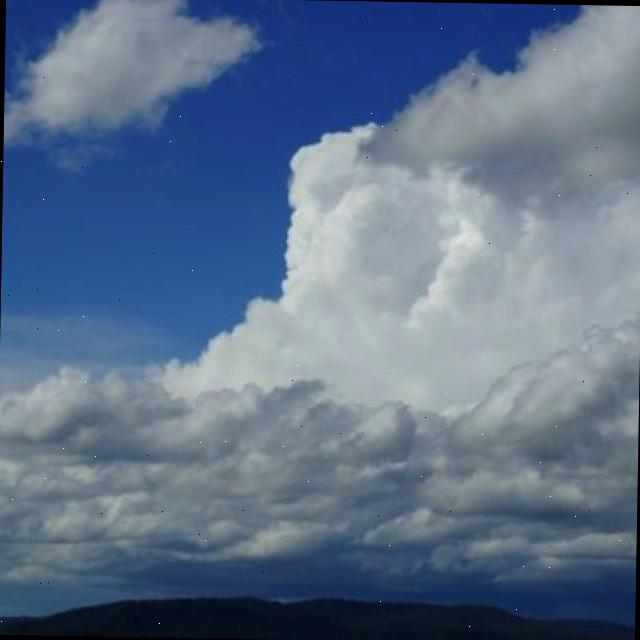Cu: (1, 67, 640, 539)
